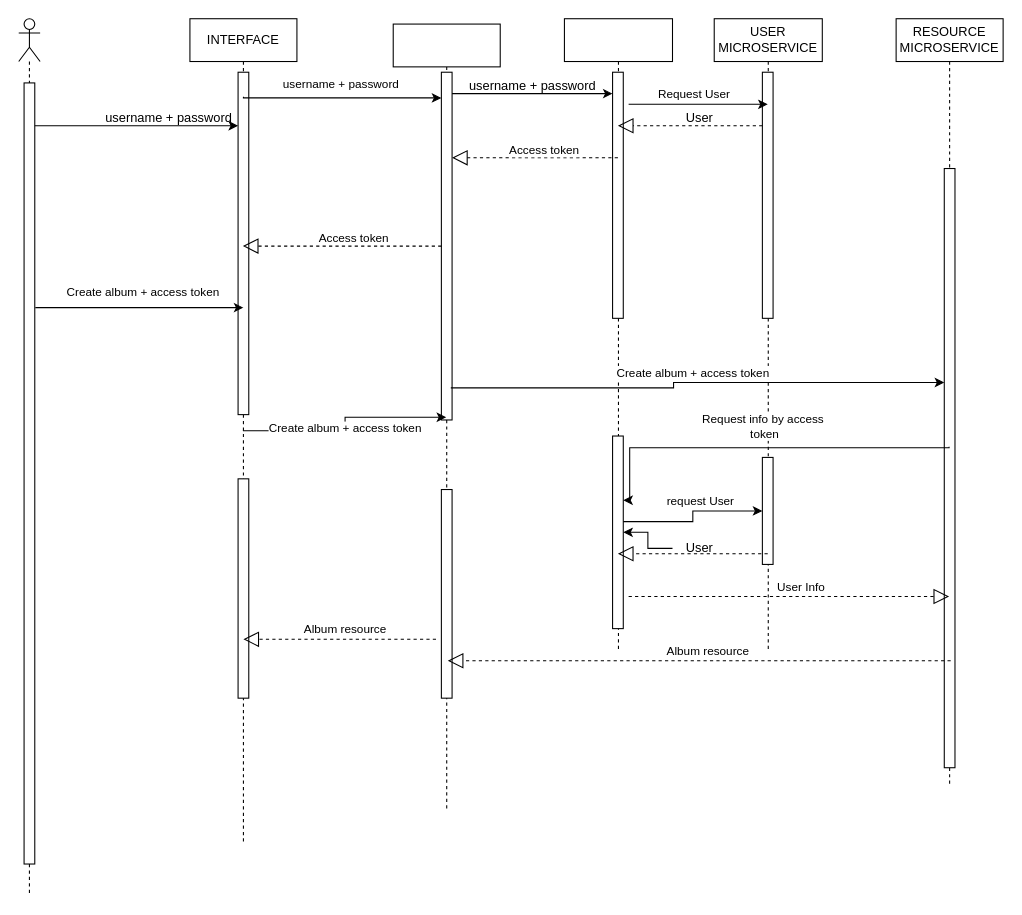
The diagram is 1022 pixels wide and 915 high, and some of its shapes have lost their labels. The shapes that lost their labels are listed below. From the top down, each one's centre as x and y in pixels, then its label:
At point 617,334: "AUTHORIZATION MICROSERVICE".
At point 446,417: "GATEWAY".
